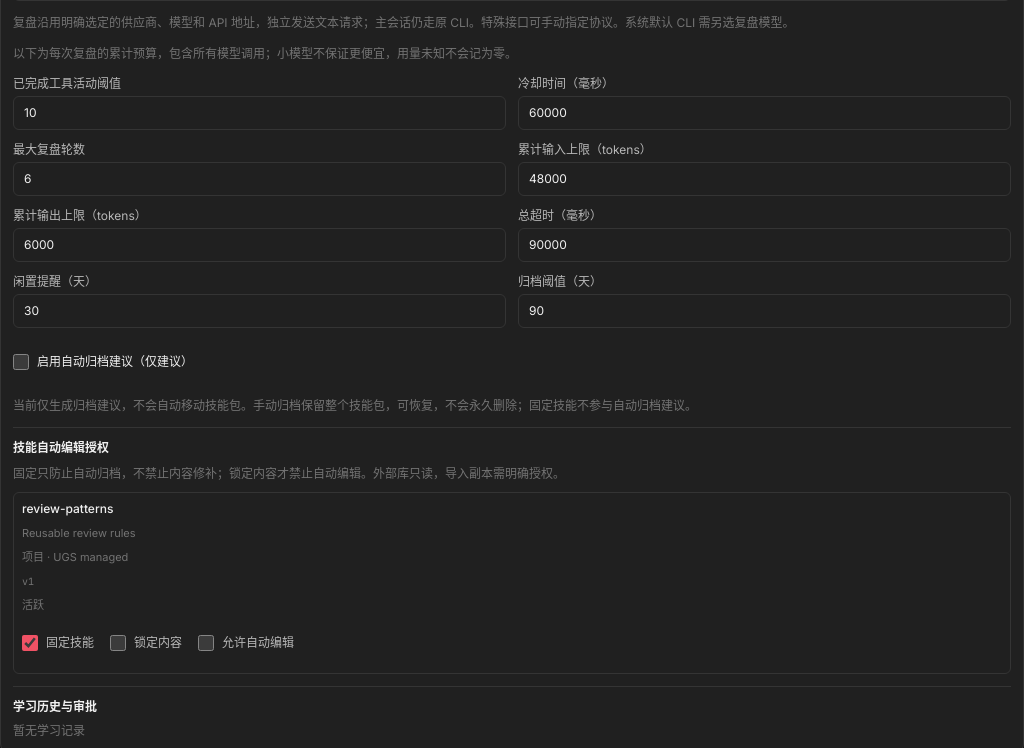
SkillLearningSettings › refuses a policy response for a different skill identity
(page scrolled)
Click the checkbox named "允许自动编辑 review-patterns".
click(206, 643)  # box x1=198 y1=635 x2=214 y2=651
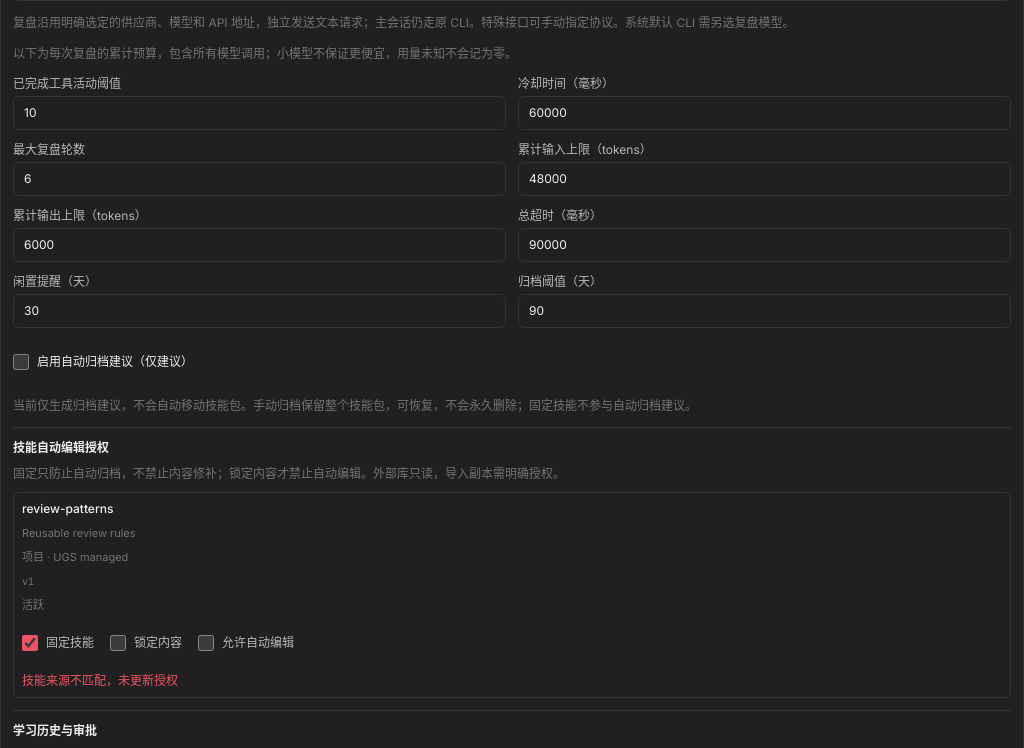
expect the message "技能来源不匹配，未更新授权" is shown: met, box x1=22 y1=673 x2=178 y2=688
